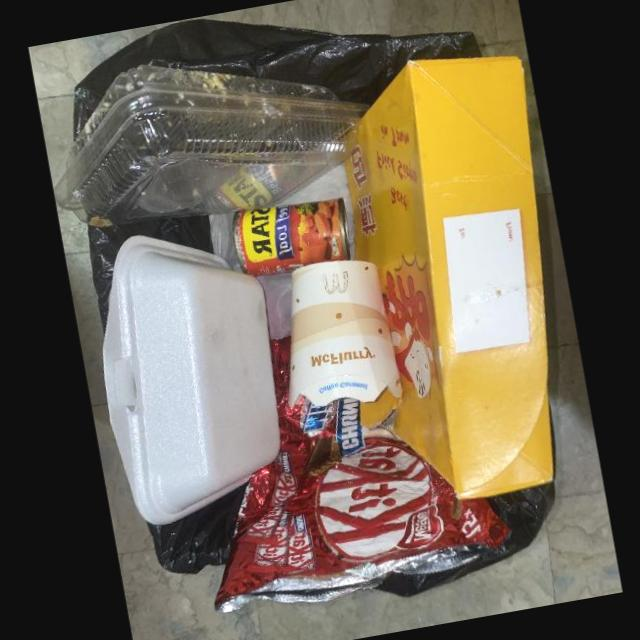bao_bi_thuc_pham: (214, 334, 511, 611)
carton: (344, 52, 555, 498), (288, 258, 402, 407)
hop_nhua: (53, 62, 370, 226)
nhom: (233, 197, 350, 276)
xop: (102, 233, 280, 524)
